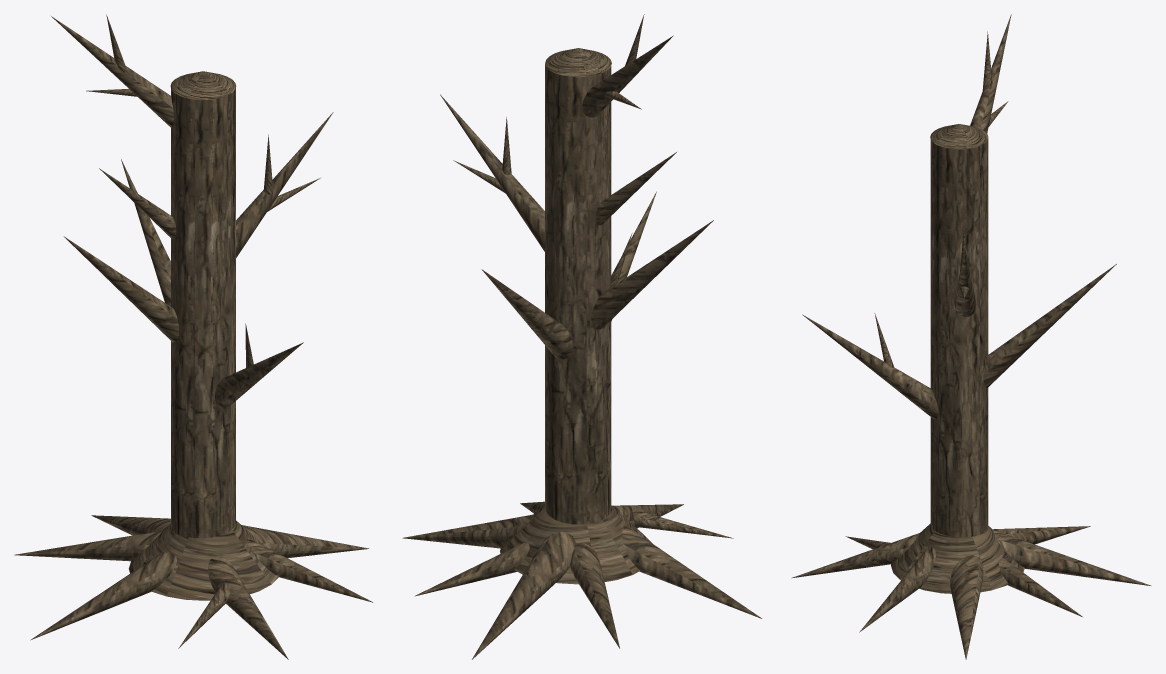
Rendered from Tree_1.glb.
3 renders of one model, left to right at view 1: azimuth 30°, elevation 25°; view 2: azimuth 150°, elevation 25°; view 3: azimuth 270°, elevation 25°, orthographic. The views are drawn at different scales.
Parts seen in each view (by area): view 1: mergedBlocks(Clone); view 2: mergedBlocks(Clone); view 3: mergedBlocks(Clone).
Part boxes in pixels (<box>): mergedBlocks(Clone): <box>14,14,373,659</box>; mergedBlocks(Clone): <box>402,14,762,659</box>; mergedBlocks(Clone): <box>791,14,1151,659</box>.
Size of the model in its own units: 0.7528 by 1.22 by 0.7639.
Materials: 1 (1 with a texture image).
